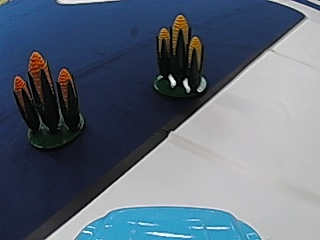corn: (10, 48, 88, 147), (153, 9, 209, 97)
